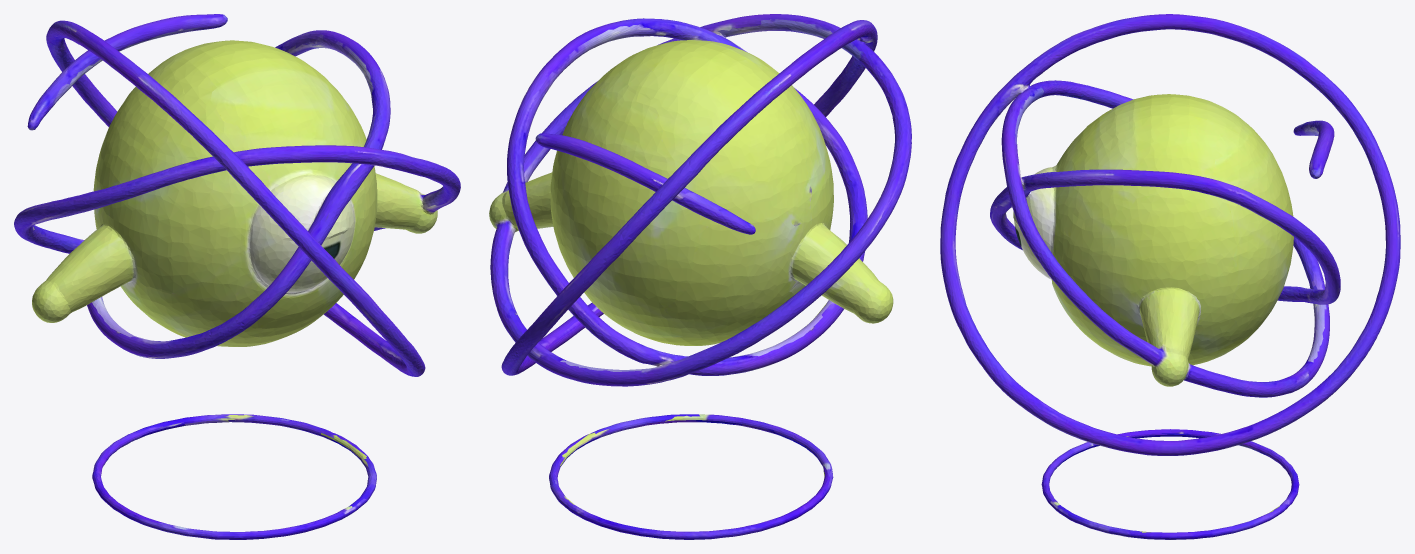
Rendered from creature-042.glb.
The picture shows the model from 3 angles, left to right: view 1: azimuth 30°, elevation 25°; view 2: azimuth 150°, elevation 25°; view 3: azimuth 270°, elevation 25°; orthographic projection. The views are drawn at different scales.
Visible parts, largest first — view 1: tmps7yg3o4c.ply; view 2: tmps7yg3o4c.ply; view 3: tmps7yg3o4c.ply.
Part boxes in pixels (x1,y1,x2,y2): tmps7yg3o4c.ply: (14, 14, 460, 539); tmps7yg3o4c.ply: (489, 14, 911, 539); tmps7yg3o4c.ply: (940, 14, 1400, 539).
Size of the model in its own units: 1.78 by 1.99 by 1.99.
Materials: 1 (1 with a texture image).
